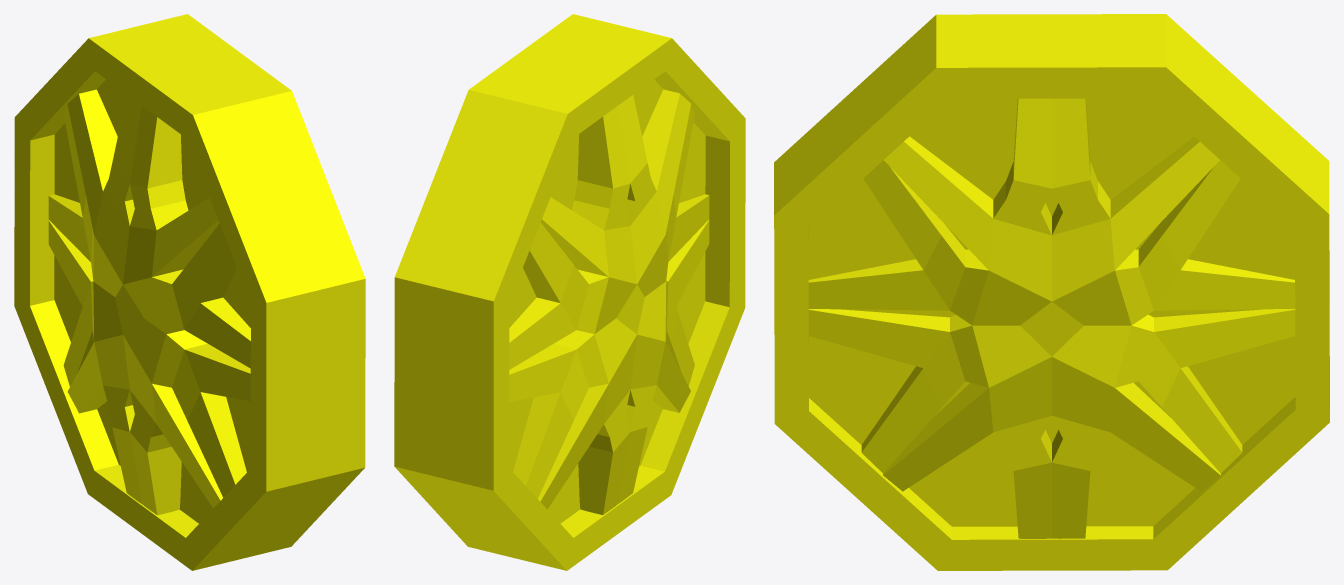
File: Money 1.fbx
3 renders of one model, left to right at view 1: azimuth 30°, elevation 25°; view 2: azimuth 150°, elevation 25°; view 3: azimuth 270°, elevation 25°, orthographic. The views are drawn at different scales.
Parts seen in each view (by area): view 1: Cube.002; view 2: Cube.002; view 3: Cube.002.
Boxes of the visible parts, x1,y1,x2,y2 form: Cube.002: (14, 14, 365, 570); Cube.002: (394, 14, 745, 570); Cube.002: (774, 14, 1329, 570).
Bounding box in the file's own units: 168 × 545 × 545.
